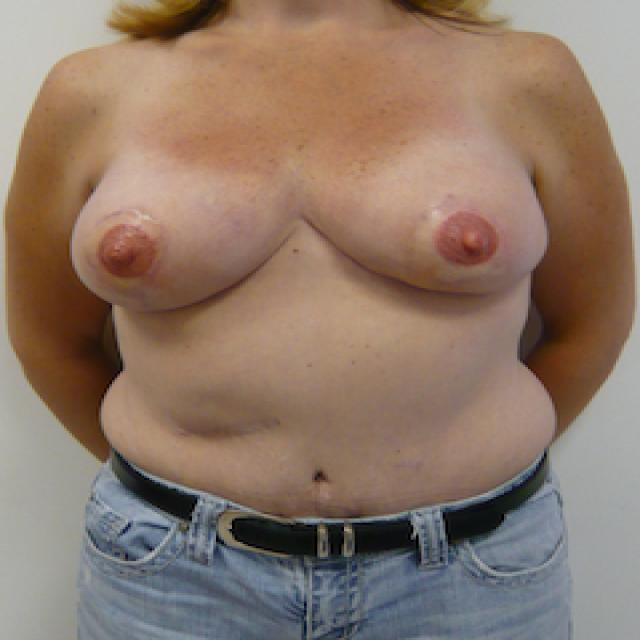Seno herido: (60, 125, 298, 326), (306, 125, 559, 312)
